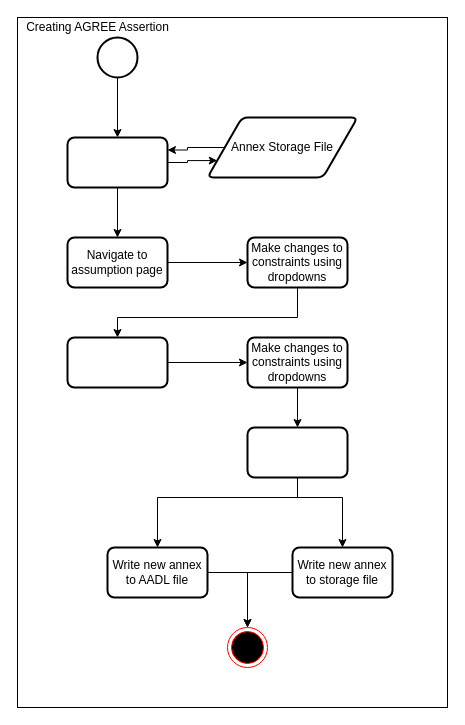
The diagram is 465 pixels wide and 725 high, and some of its shapes have lost their labels. The shapes that lost their labels are listed below. From the top down, each one's centre as x and y in pixels, then its label:
At [117,162]: "Access annex storage file".
At [117,362]: "Navigate to guarantee page".
At [297,452]: "Navigate to output page".
